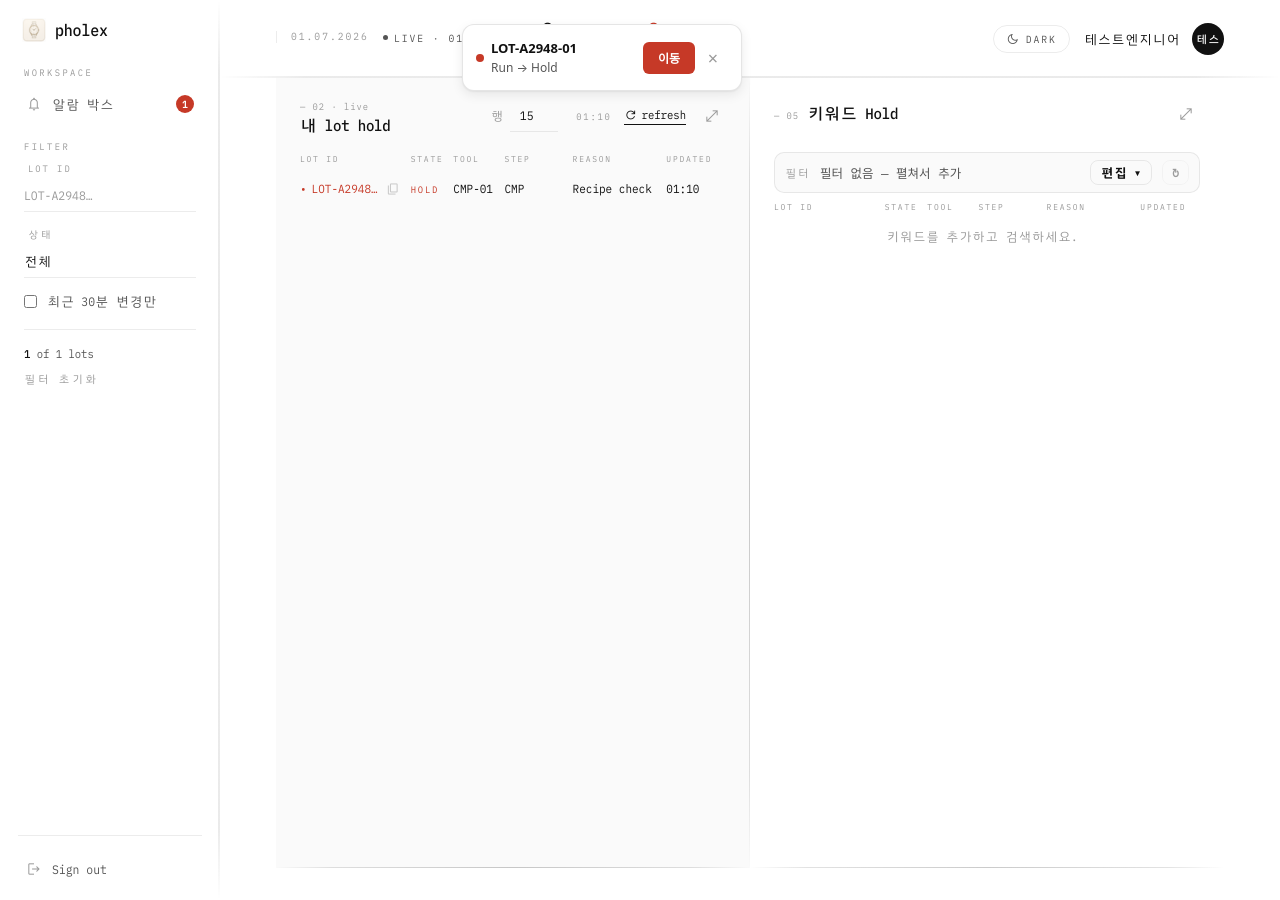
Alarm dock › opens the dock from the sidebar, lists the alarm, and clears the badge
Expected: the heading "내 lot hold" is shown, [300, 116, 390, 135]
Expected: the text with test id "alarm-badge" is shown, [176, 95, 194, 113]
Click the button "알람 박스 1". click: (110, 104)
box: [18, 88, 202, 120]
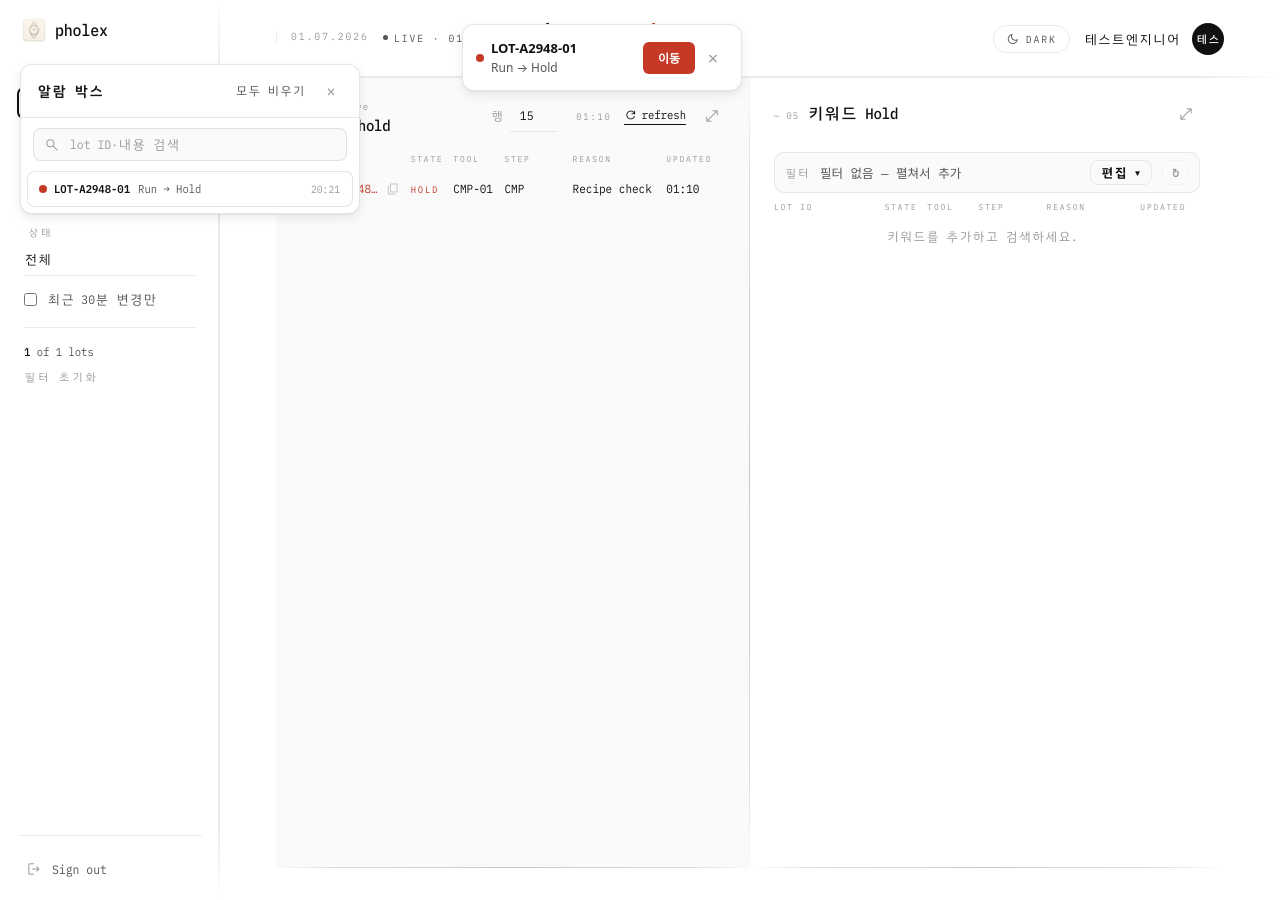
Expected: the text "Run → Hold" in the row of "CMP-01" is shown, [138, 182, 201, 196]
Expected: the text with test id "alarm-badge" is gone
